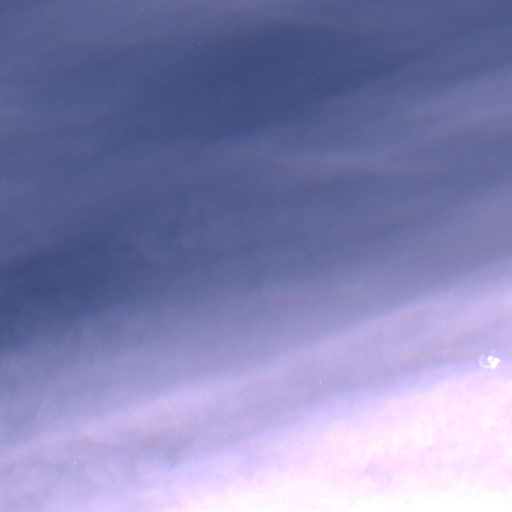Iceberg: (488, 356, 499, 368)
